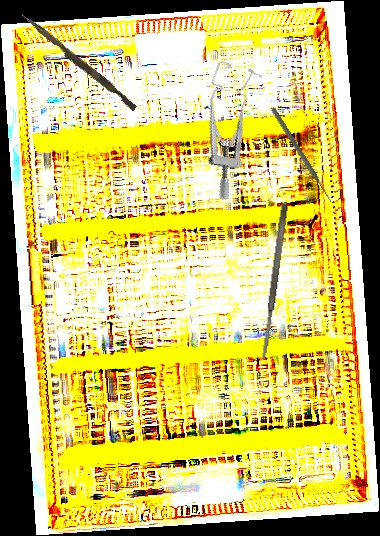Pusher: (17, 12, 140, 112), (269, 107, 335, 204)
Spatula Surgical: (258, 201, 290, 362)
Speculum: (174, 56, 275, 203)
